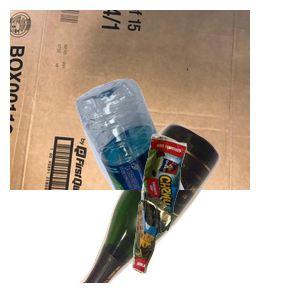cardboard: (10, 10, 250, 190)
glass: (66, 120, 279, 300)
plastic: (73, 76, 300, 256)
trash: (130, 131, 300, 300)
